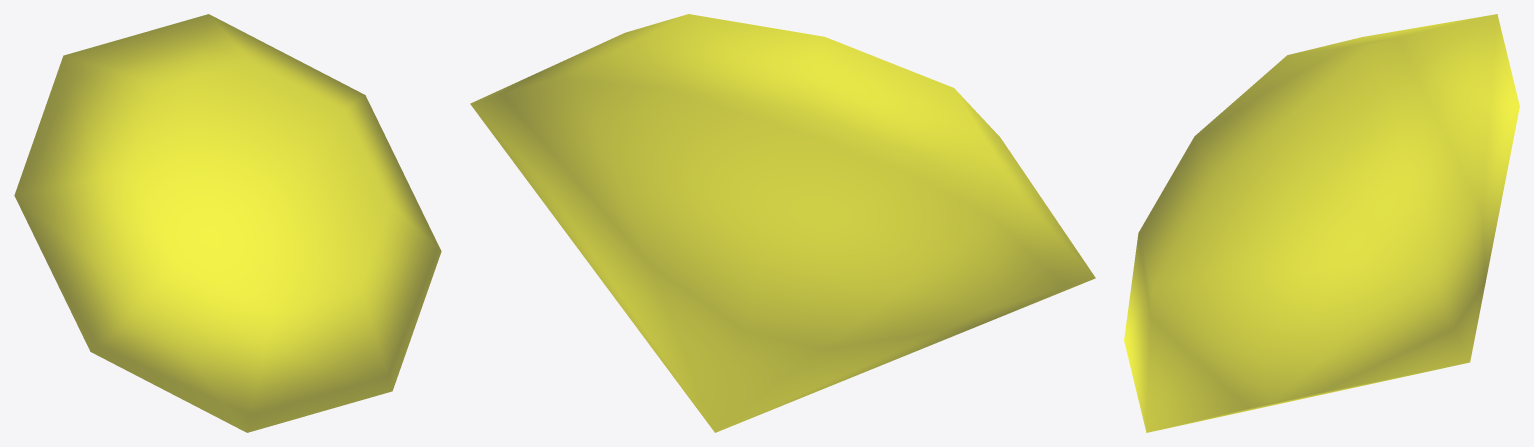
File: crystalYellow.fbx
3 views of the same model, side by side, from view 1: azimuth 30°, elevation 25°; view 2: azimuth 150°, elevation 25°; view 3: azimuth 270°, elevation 25° (orthographic). The views are drawn at different scales.
Visible parts, largest first — view 1: Diamond; view 2: Diamond; view 3: Diamond.
Part boxes in pixels (<box>): Diamond: <box>14,14,441,432</box>; Diamond: <box>470,14,1095,432</box>; Diamond: <box>1124,14,1519,432</box>.
Size of the model in its own units: 1.89 by 1.27 by 1.44.
